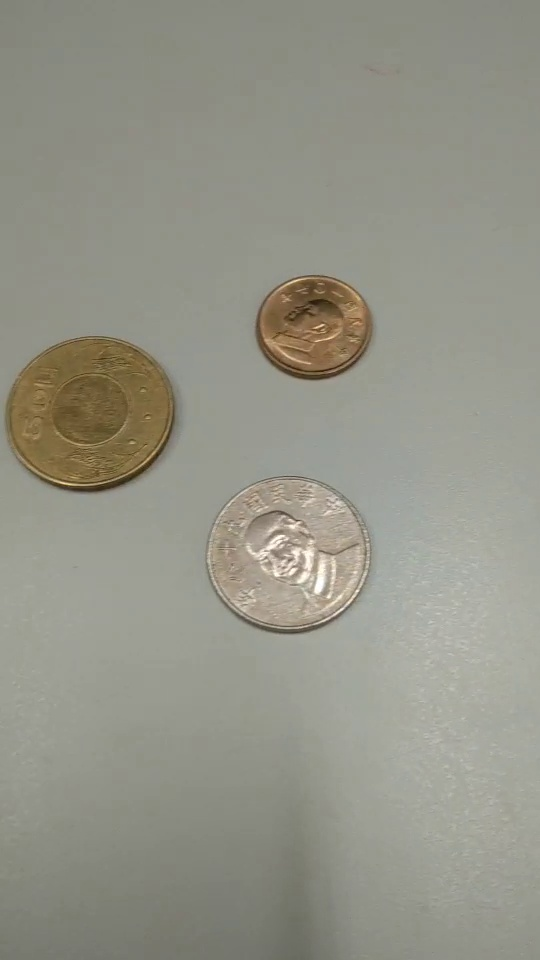NT$ 1: (256, 277, 373, 380)
NT$ 10: (207, 476, 371, 636)
NT$ 50: (6, 332, 177, 491)
